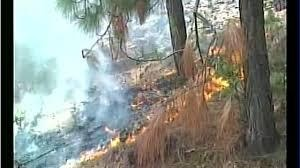fire: (202, 43, 231, 98)
